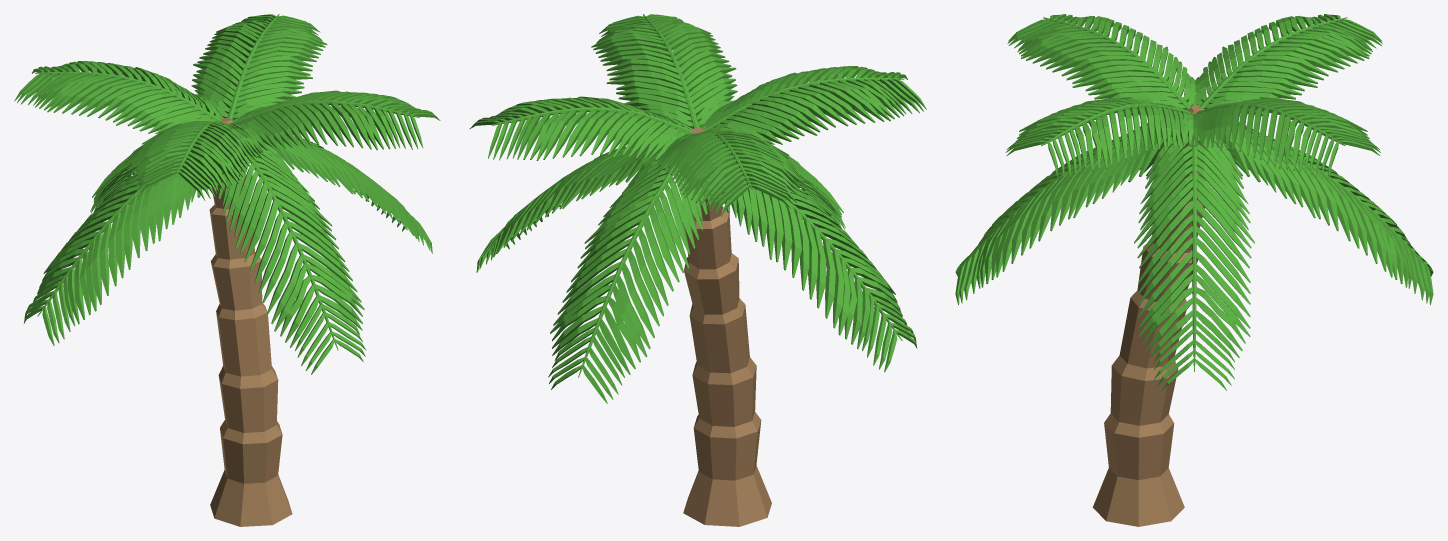
File: ENVI_LV2-3_Kelapa2.fbx
3 views of the same model, side by side, from view 1: azimuth 30°, elevation 25°; view 2: azimuth 150°, elevation 25°; view 3: azimuth 270°, elevation 25° (orthographic). The views are drawn at different scales.
Visible parts, largest first — view 1: Kelapa2; view 2: Kelapa2; view 3: Kelapa2.
Boxes of the visible parts, bbox=[...] form: Kelapa2: bbox=[14, 14, 440, 526]; Kelapa2: bbox=[469, 14, 926, 526]; Kelapa2: bbox=[955, 14, 1433, 526].
Bounding box in the file's own units: 405 × 406 × 405.
